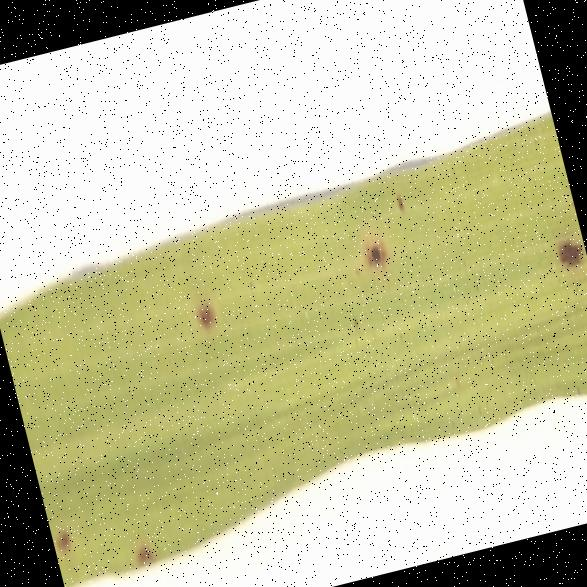Brown_Spot: (178, 276, 228, 343), (349, 228, 402, 284), (545, 218, 587, 284), (116, 524, 162, 577), (50, 520, 82, 572), (390, 183, 412, 230)
